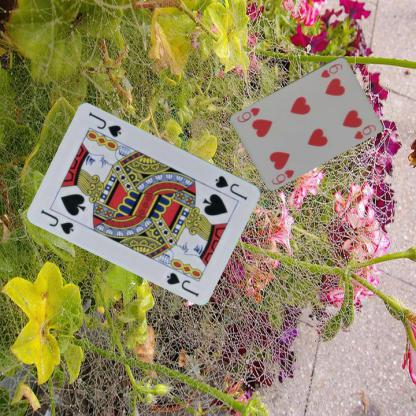6h: (269, 166, 296, 186), (318, 61, 344, 79)
Js: (38, 207, 76, 236), (213, 173, 249, 202)
